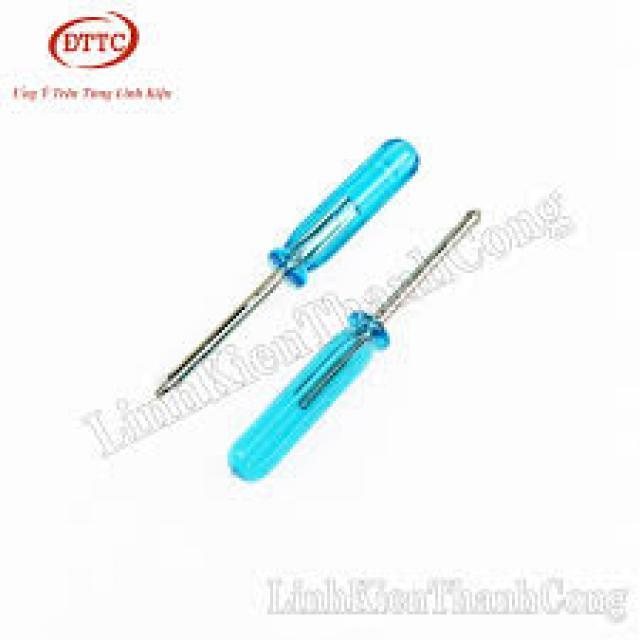screwdriver: (223, 203, 484, 488), (151, 135, 421, 400)
